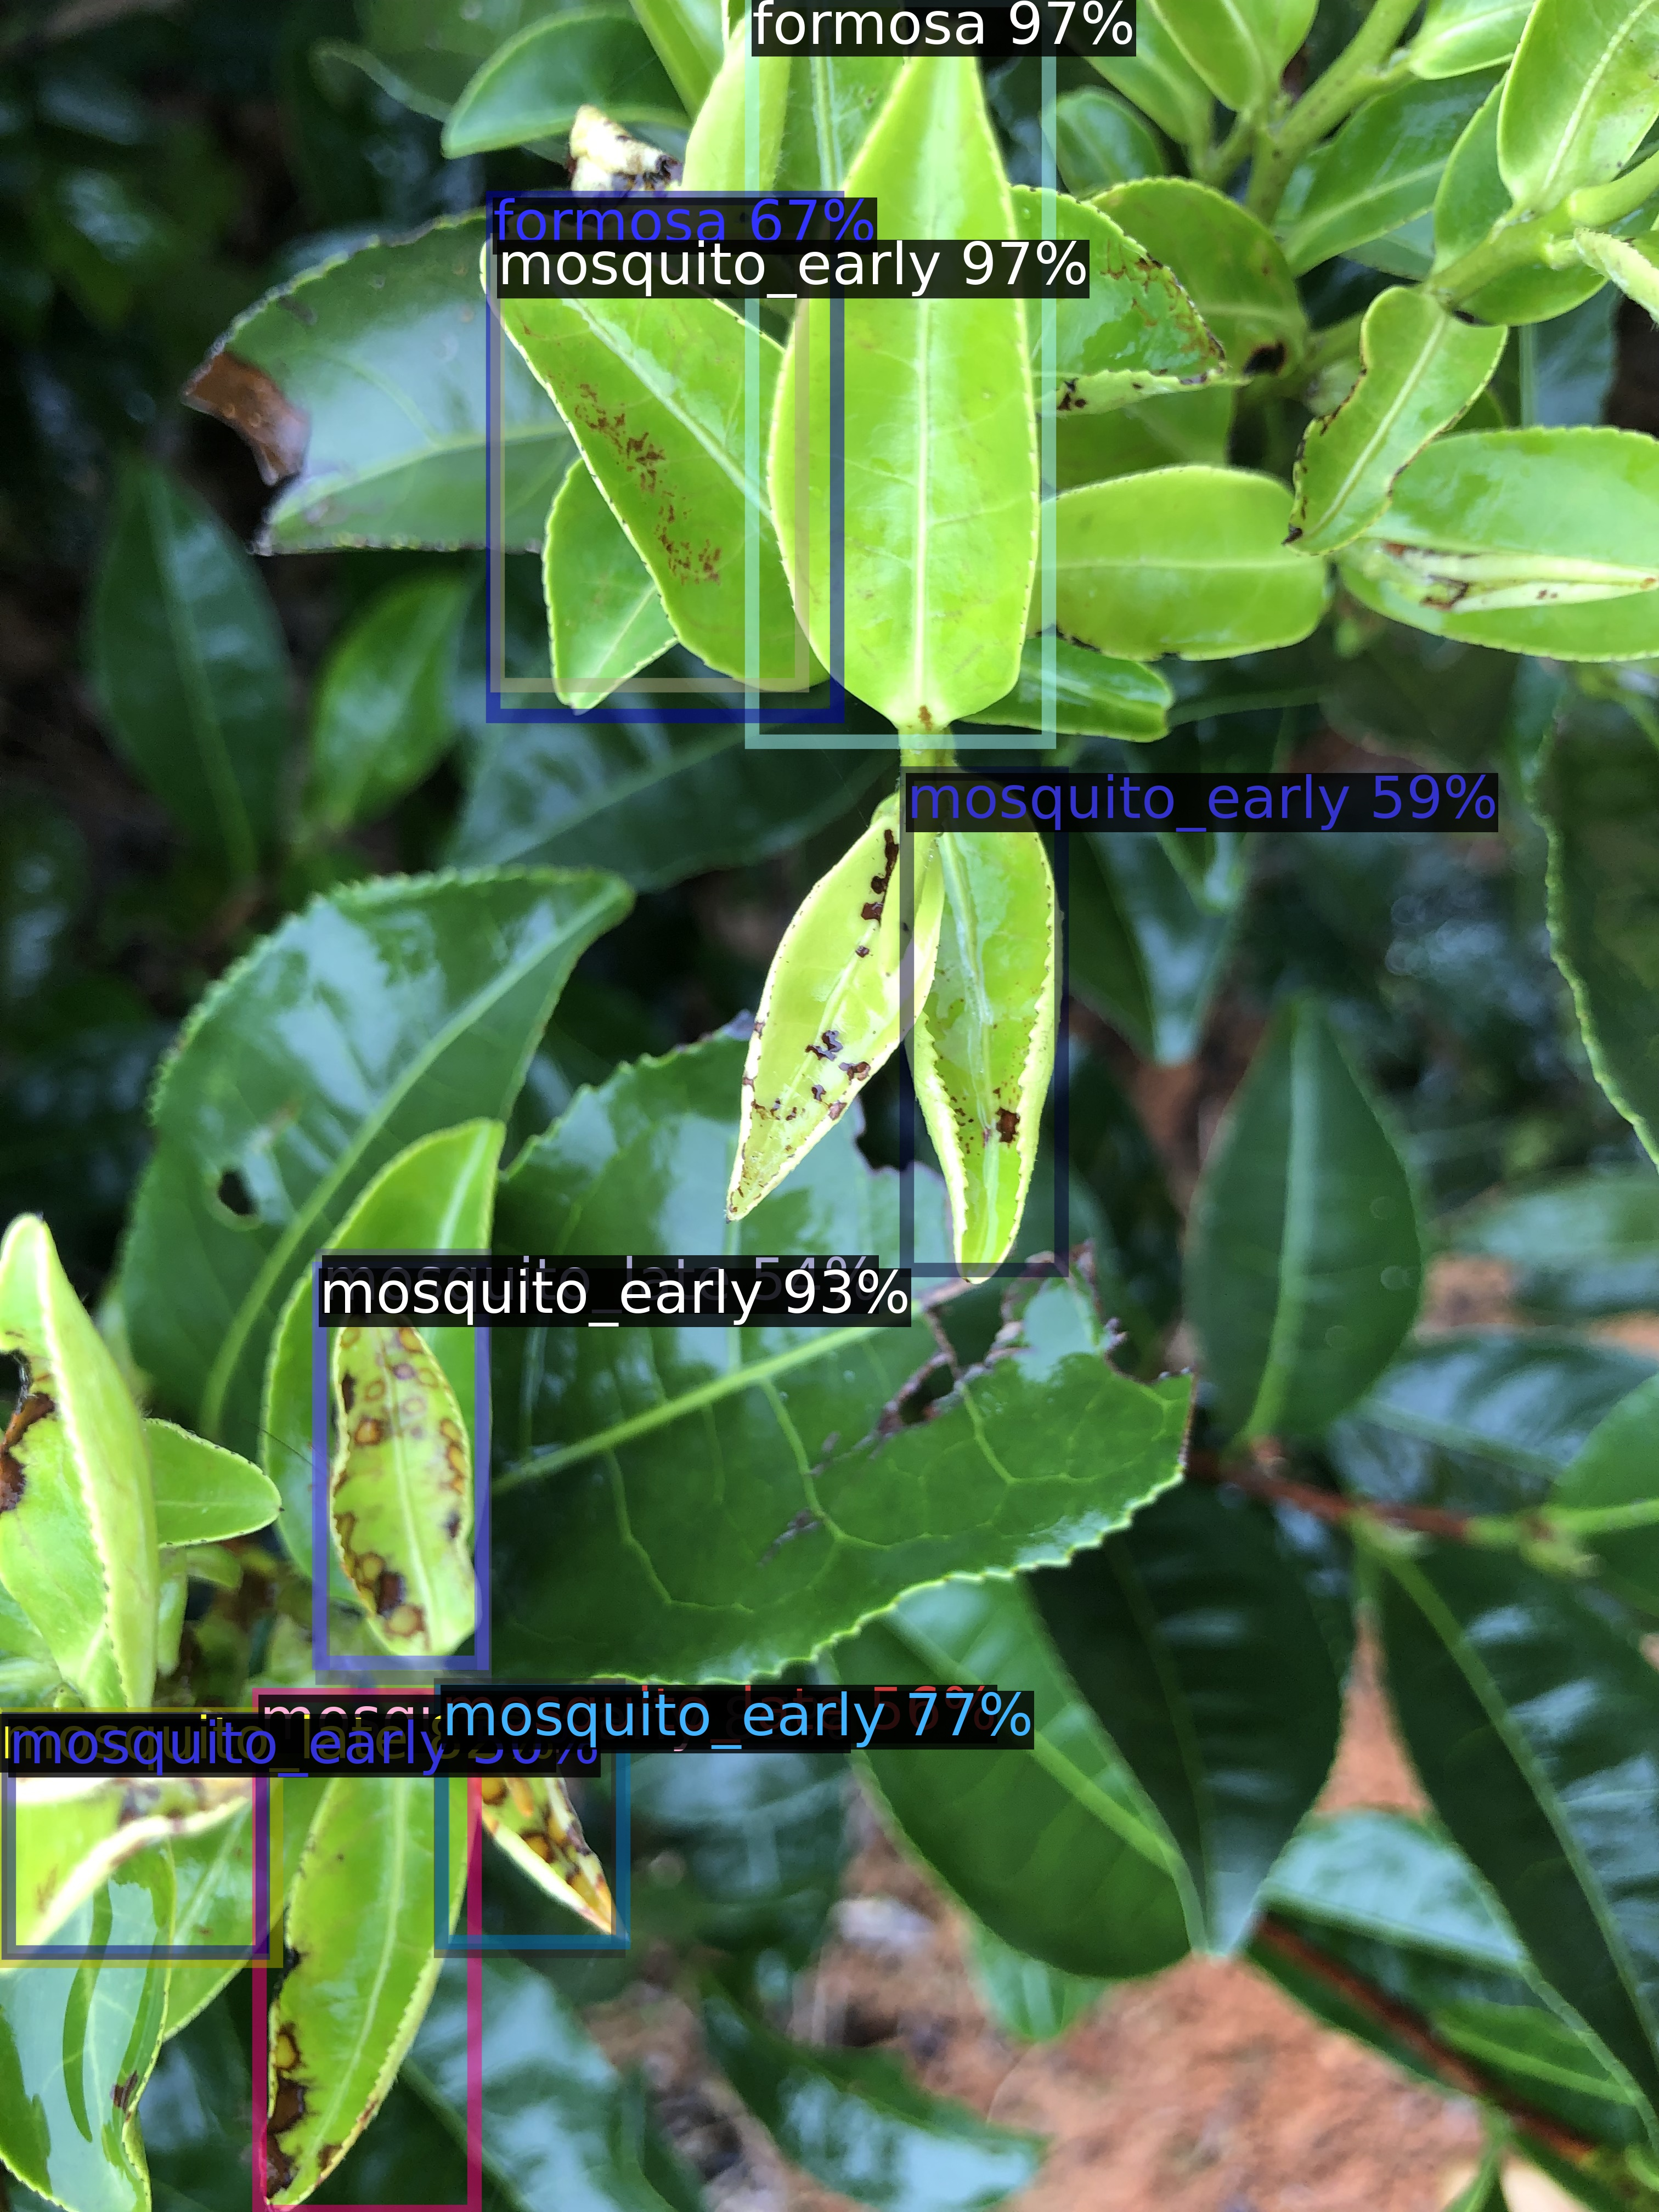formosa: (753, 0, 1049, 742), (493, 197, 836, 716)
mosquito_early: (498, 240, 802, 685), (260, 1695, 474, 2212), (906, 773, 1061, 1270), (319, 1270, 481, 1662), (9, 1719, 263, 1952), (443, 1691, 622, 1942)
mosquito_late: (322, 1256, 484, 1677), (0, 1714, 275, 1961), (441, 1684, 619, 1951)
